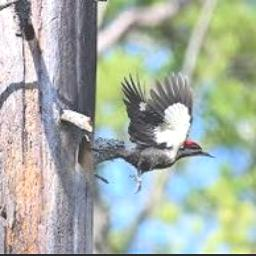Woodpecker: (87, 71, 216, 193)
